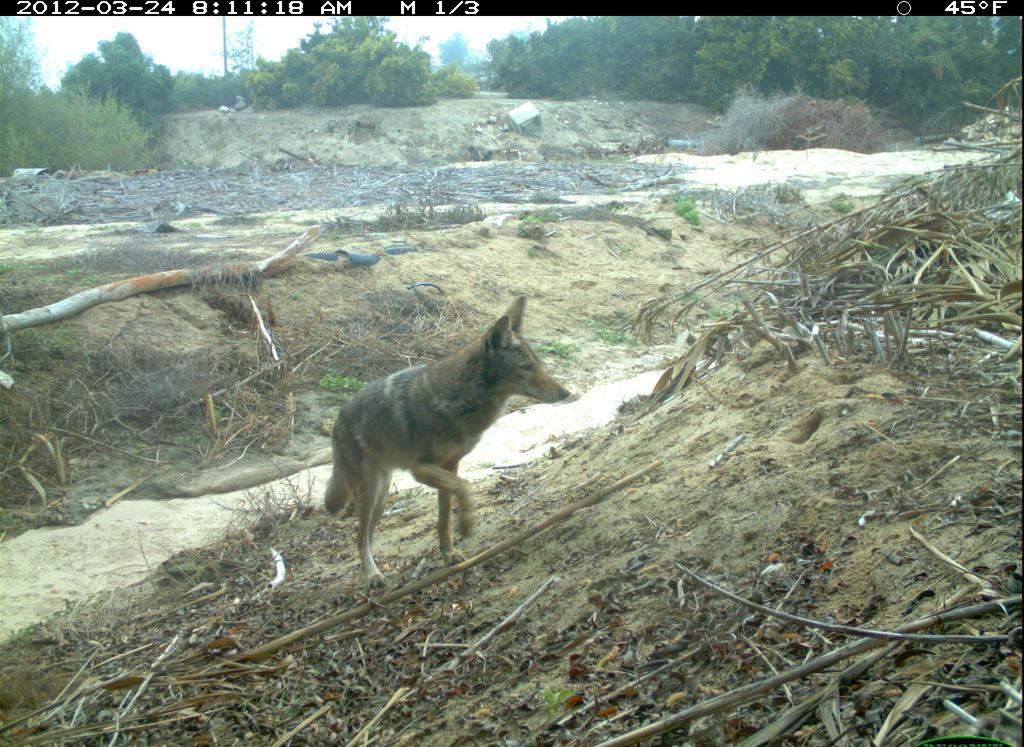coyote: (319, 294, 577, 587)
